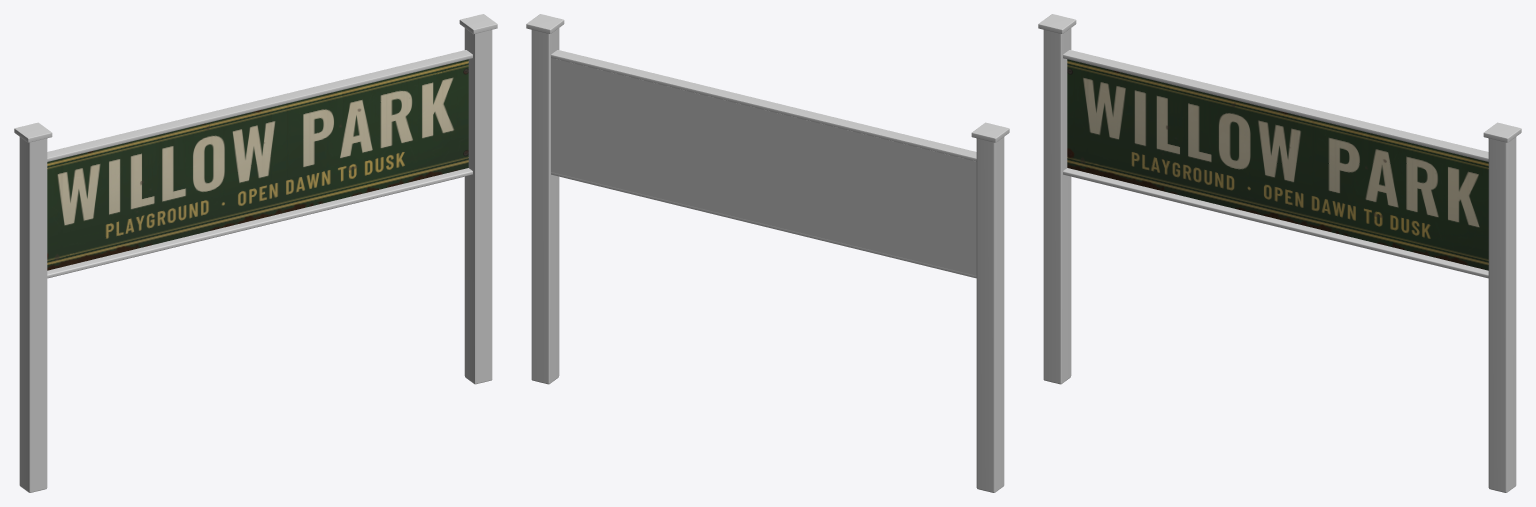
The model's file is SM_Sign_Playground_Post.fbx.
3 views of the same model, side by side, from view 1: azimuth 30°, elevation 25°; view 2: azimuth 150°, elevation 25°; view 3: azimuth 330°, elevation 25° (orthographic).
Visible parts, largest first — view 1: SM_Sign_Playground_Post_1; view 2: SM_Sign_Playground_Post_1; view 3: SM_Sign_Playground_Post_1.
Part boxes in pixels (bbox=[...]): SM_Sign_Playground_Post_1: bbox=[14, 14, 497, 492]; SM_Sign_Playground_Post_1: bbox=[526, 14, 1009, 492]; SM_Sign_Playground_Post_1: bbox=[1038, 14, 1521, 492].
Size of the model in its own units: 306 by 223 by 16.
